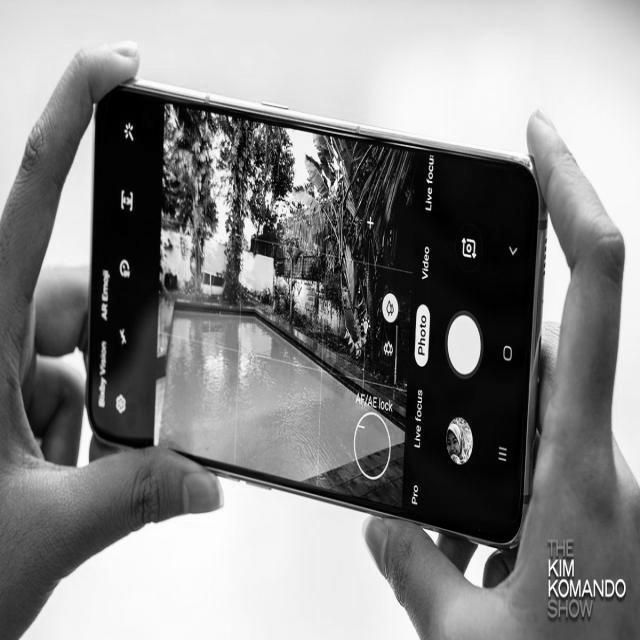fake: (85, 65, 551, 567)
